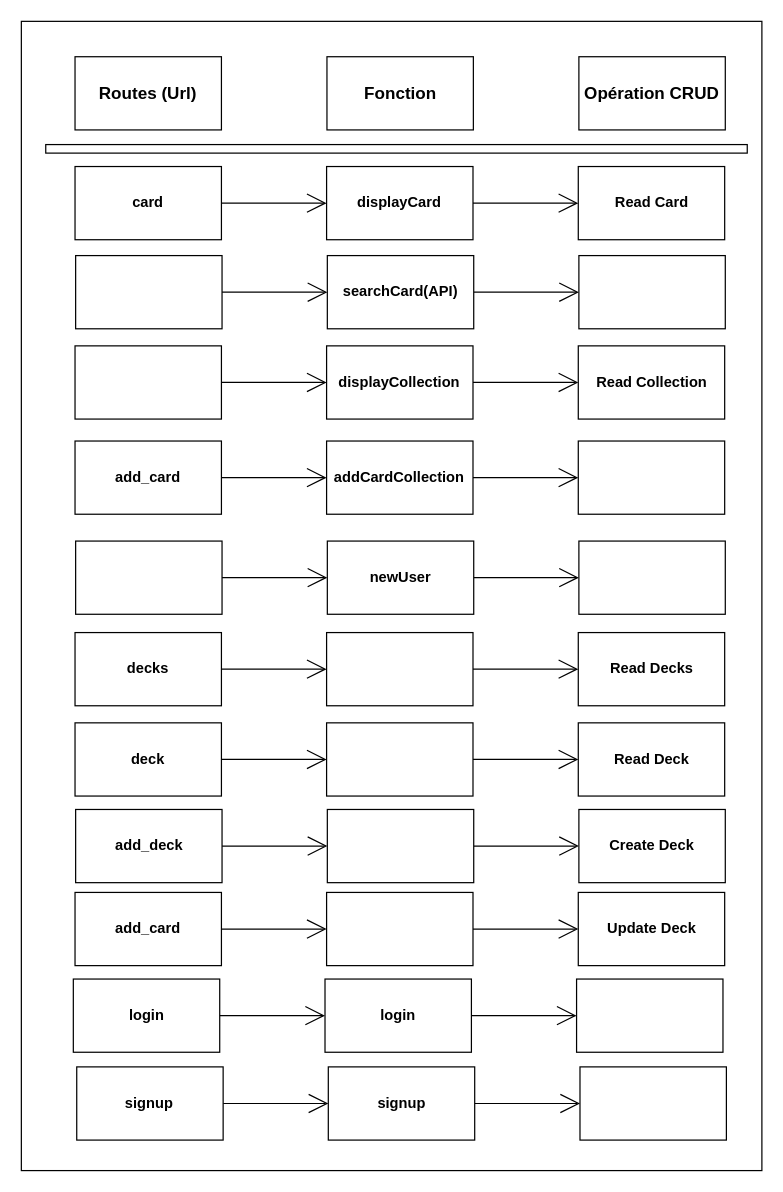
Some shapes in this 783 by 1192 pixel diagram are drawn without their labels. Each missing label, with the centre of its shape:
AddCardDeck: the point at 399,928
collection: the point at 147,382
Create Card: the point at 651,291
create Collection: the point at 651,577
Create User: the point at 652,1103
create_collection: the point at 148,577
create_deck: the point at 400,845
displayDeck(id): the point at 399,759
displayDecks: the point at 399,668
Read User: the point at 649,1015
search_card: the point at 148,291
Update Collection: the point at 651,477
